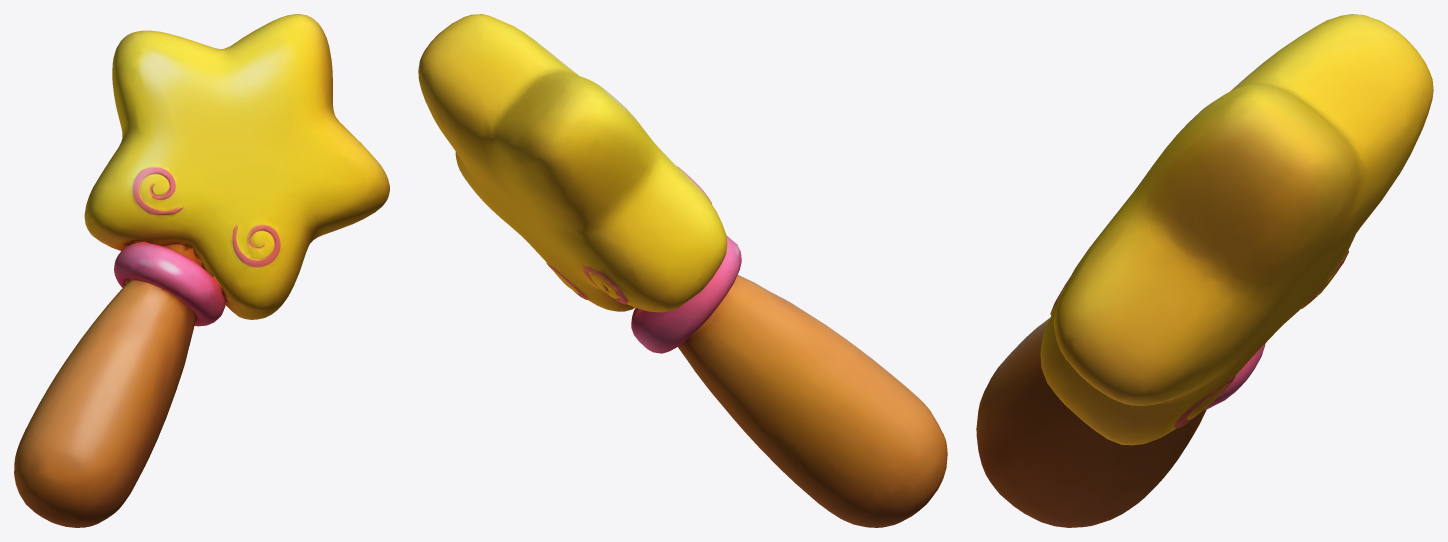
The model's file is acc-wand.glb.
3 views of the same model, side by side, from view 1: azimuth 30°, elevation 25°; view 2: azimuth 150°, elevation 25°; view 3: azimuth 270°, elevation 25° (orthographic). The views are drawn at different scales.
Parts seen in each view (by area): view 1: tripo_node_e6479d43-6cd5-4f09-89cb-99851fd20deb; view 2: tripo_node_e6479d43-6cd5-4f09-89cb-99851fd20deb; view 3: tripo_node_e6479d43-6cd5-4f09-89cb-99851fd20deb.
Part boxes in pixels (x1,y1,x2,y2): tripo_node_e6479d43-6cd5-4f09-89cb-99851fd20deb: (14, 14, 389, 527); tripo_node_e6479d43-6cd5-4f09-89cb-99851fd20deb: (418, 14, 947, 527); tripo_node_e6479d43-6cd5-4f09-89cb-99851fd20deb: (976, 14, 1433, 527).
Bounding box in the file's own units: 0.9974 × 1 × 0.6447.
1 material, 1 textured.
